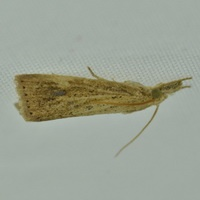insect: (15, 67, 191, 120)
